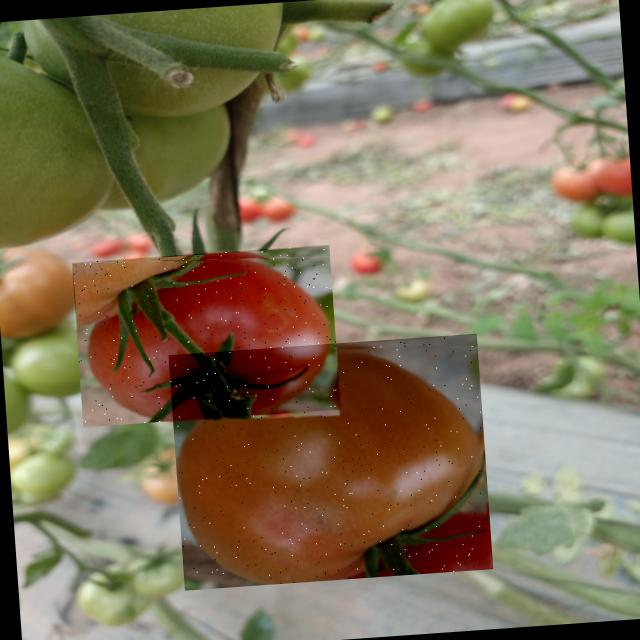Ripe Tomato: (72, 244, 341, 427)
Unripe Tomato: (168, 333, 493, 590)
